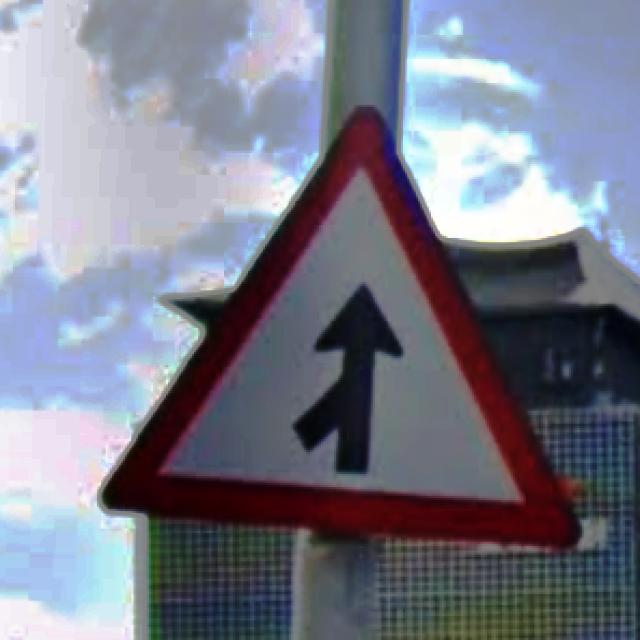leftmerge: (97, 100, 582, 550)
